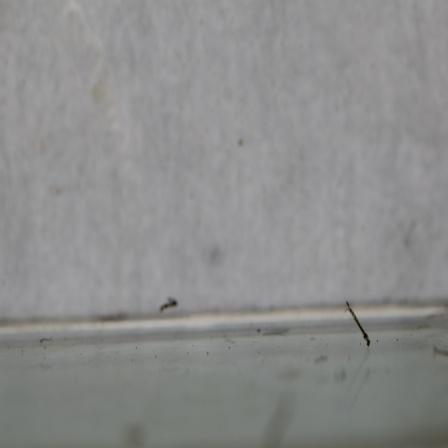Jentik-Nyamuk: (345, 299, 373, 350), (155, 295, 180, 314)
